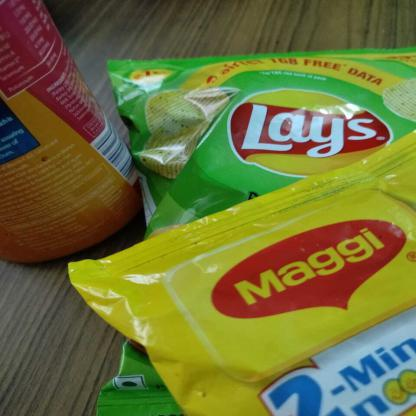cream_and_onion: (94, 45, 411, 413)
